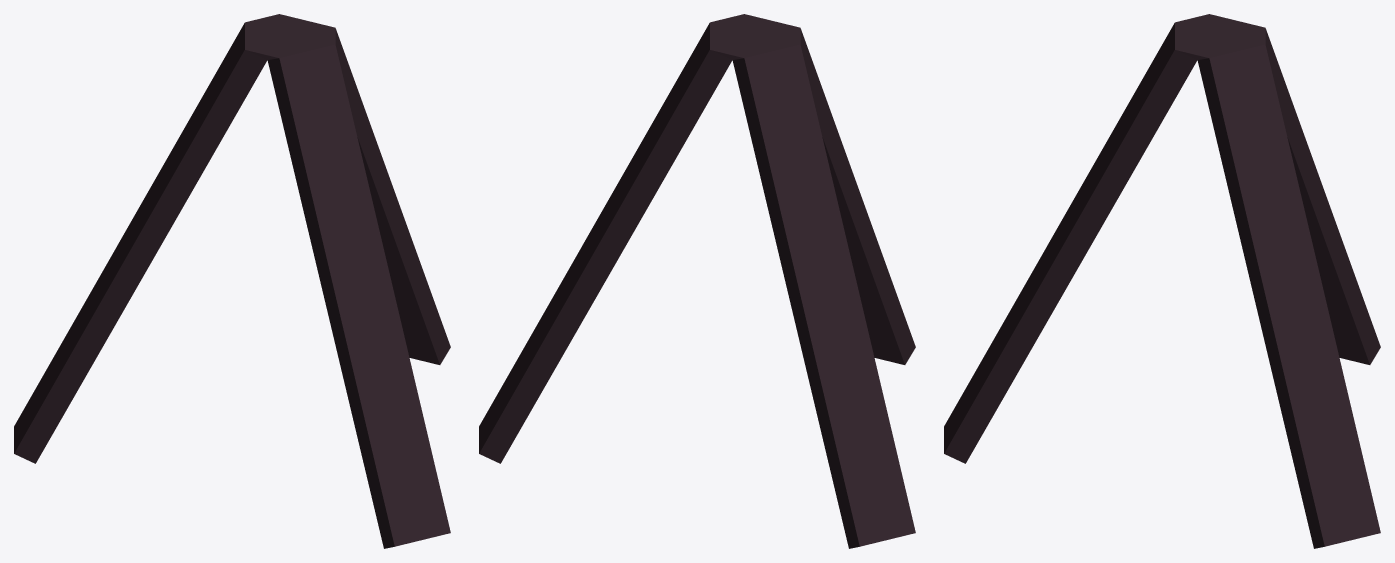
Rendered from Punching bag binding.fbx.
3 renders of one model, left to right at view 1: azimuth 30°, elevation 25°; view 2: azimuth 150°, elevation 25°; view 3: azimuth 270°, elevation 25°, orthographic.
Visible parts, largest first — view 1: punching bag binding; view 2: punching bag binding; view 3: punching bag binding.
Part boxes in pixels (box(x1,y1,x2,y2)): punching bag binding: box(14, 14, 450, 548); punching bag binding: box(479, 14, 915, 548); punching bag binding: box(944, 14, 1380, 548).
Bounding box in the file's own units: 30.85 × 27.95 × 26.72.
